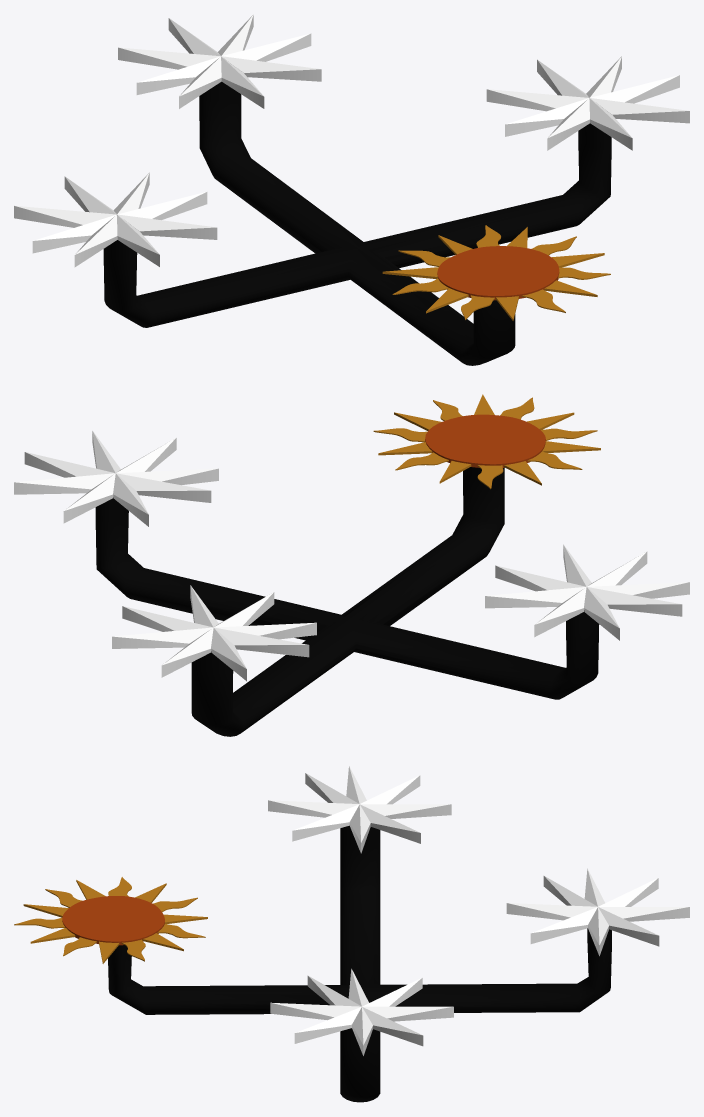
File: puzzle_piece_Sun.FBX
3 renders of one model, top to bottom at view 1: azimuth 30°, elevation 25°; view 2: azimuth 150°, elevation 25°; view 3: azimuth 270°, elevation 25°, orthographic. The views are drawn at different scales.
Parts seen in each view (by area): view 1: puzzle_sun; view 2: puzzle_sun; view 3: puzzle_sun.
Part boxes in pixels (box(x1,y1,x2,y2)): puzzle_sun: box(14, 14, 689, 365); puzzle_sun: box(14, 394, 689, 736); puzzle_sun: box(14, 766, 689, 1102).
Size of the model in its own units: 65.28 by 11.42 by 66.58.
